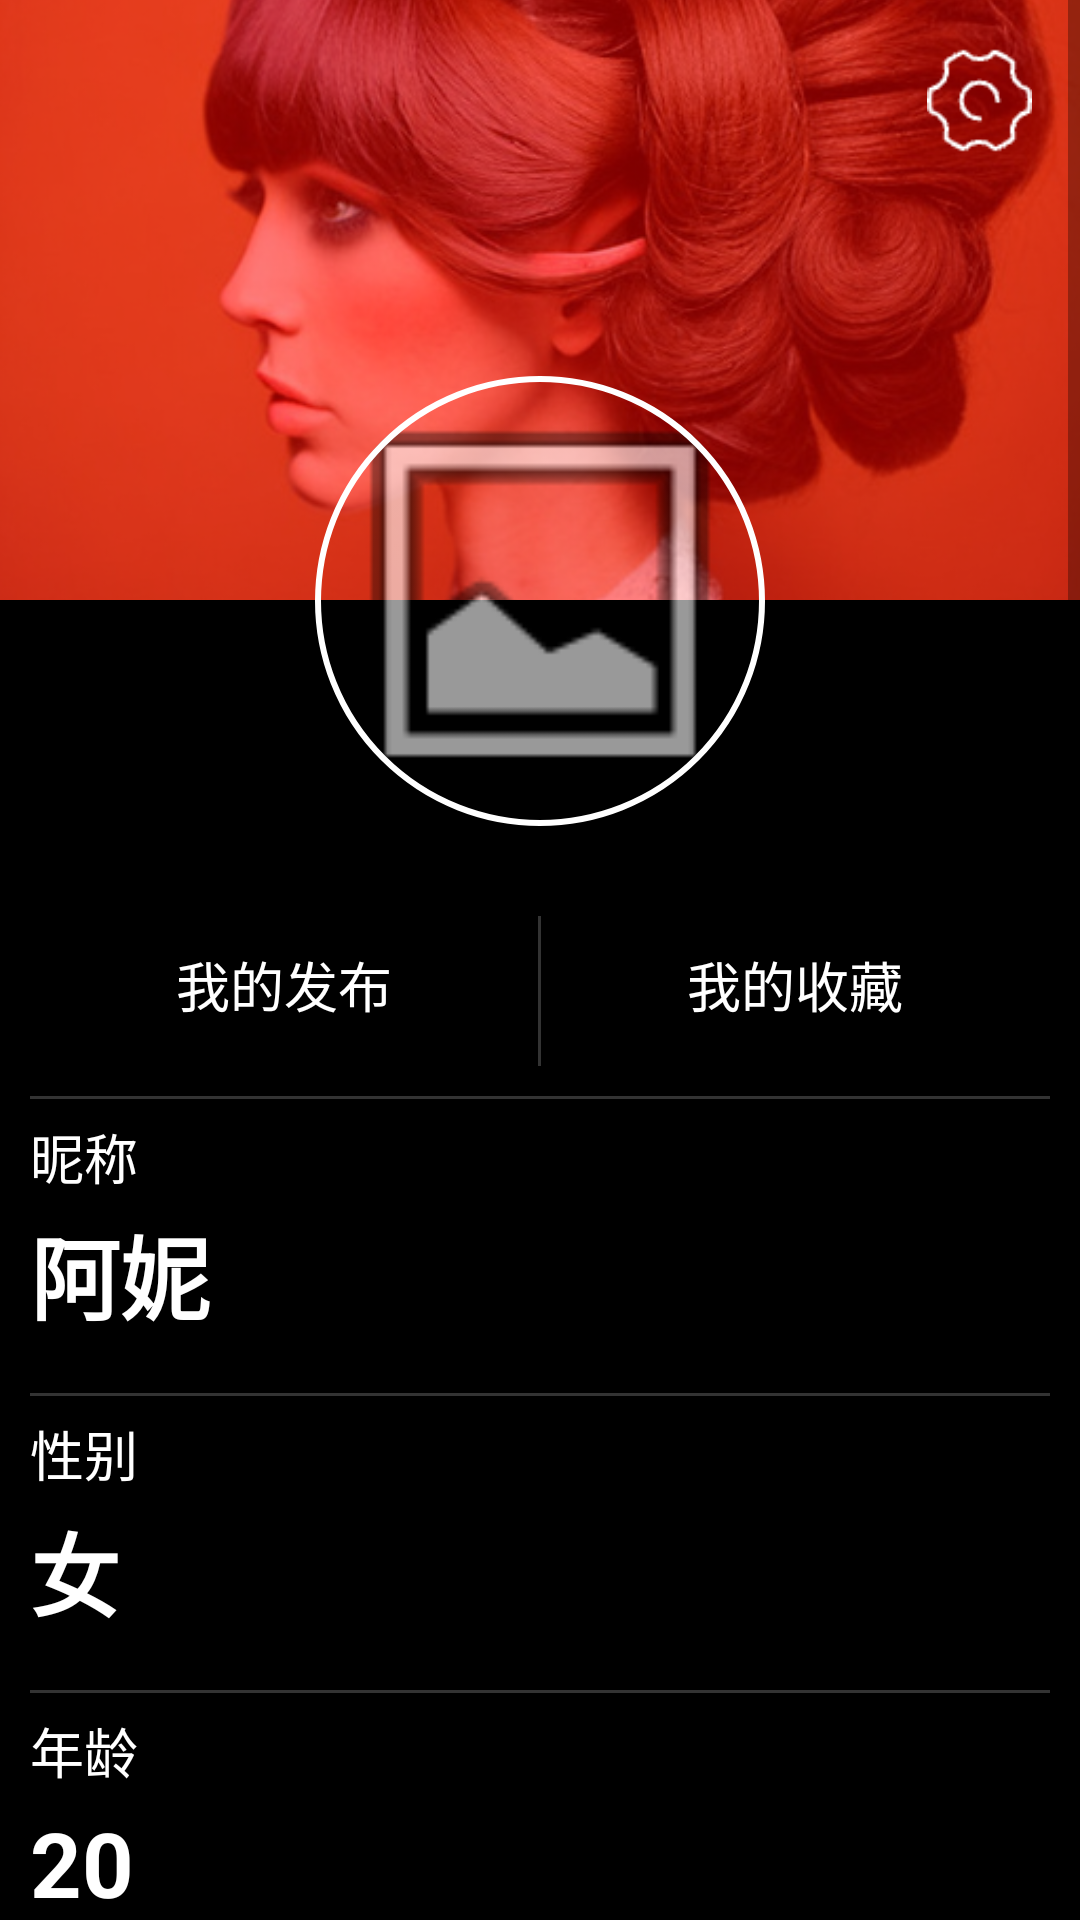

Named icons in this screenshot (1080×1920) and their bounding boxes, (x1, y1, x2, y2):
设置: (927, 49, 1032, 152)
